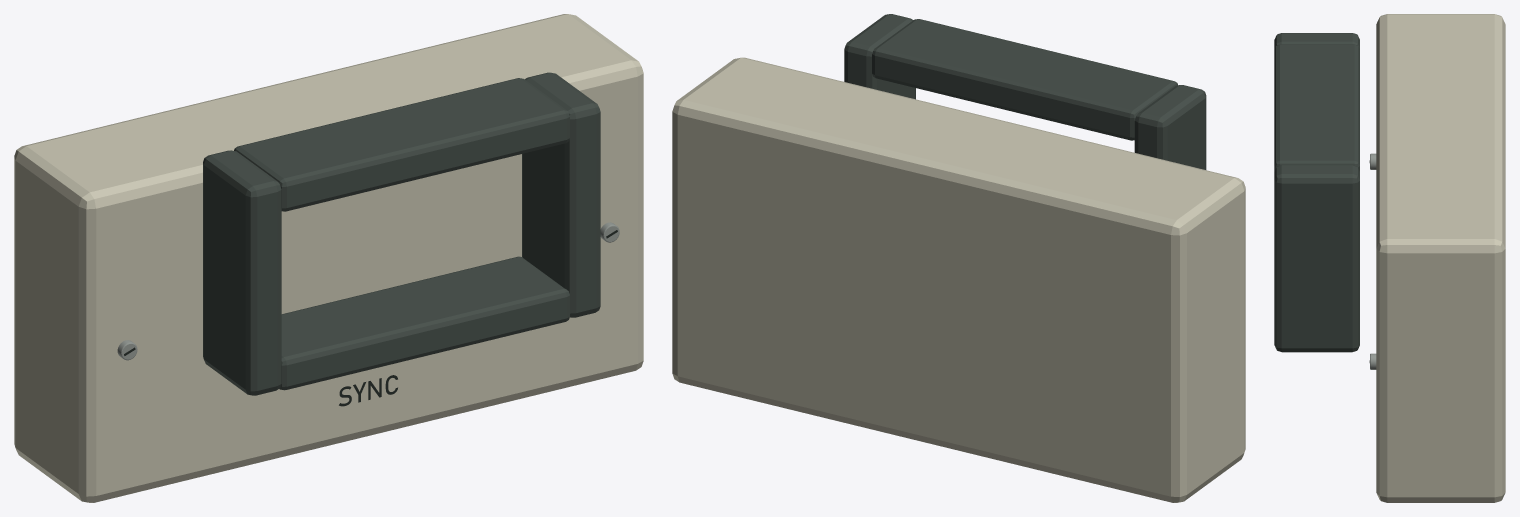
Rendered from LOCK_Housing.fbx.
3 renders of one model, left to right at view 1: azimuth 30°, elevation 25°; view 2: azimuth 150°, elevation 25°; view 3: azimuth 270°, elevation 25°, orthographic. The views are drawn at different scales.
Visible parts, largest first — view 1: LOCK_Housing_EXPORT; view 2: LOCK_Housing_EXPORT; view 3: LOCK_Housing_EXPORT.
Boxes of the visible parts, x1,y1,x2,y2 form: LOCK_Housing_EXPORT: [14, 14, 643, 502]; LOCK_Housing_EXPORT: [672, 14, 1245, 502]; LOCK_Housing_EXPORT: [1274, 14, 1505, 502].
Size of the model in its own units: 0.304 by 0.1745 by 0.127.
